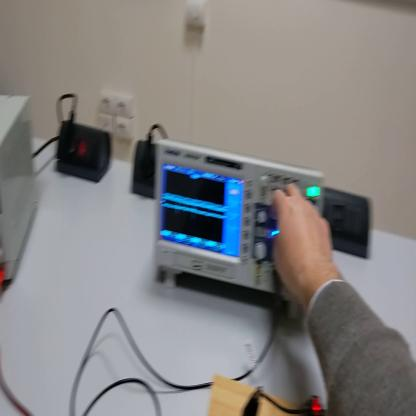hand: (272, 181, 337, 303)
low voltage board: (306, 399, 329, 415)
oscilloscope: (148, 142, 318, 324)
power supply: (2, 96, 39, 285)
socket: (56, 120, 113, 187), (131, 142, 155, 199)
working area: (208, 374, 307, 415)
